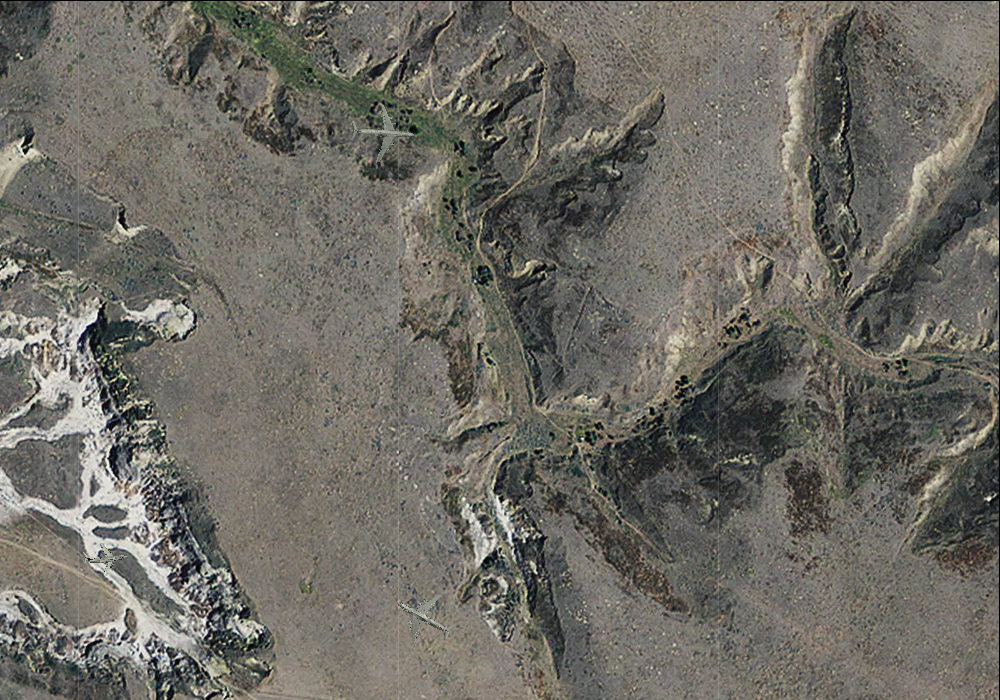plane: (383, 578, 465, 659), (347, 100, 416, 165), (79, 535, 129, 580)
